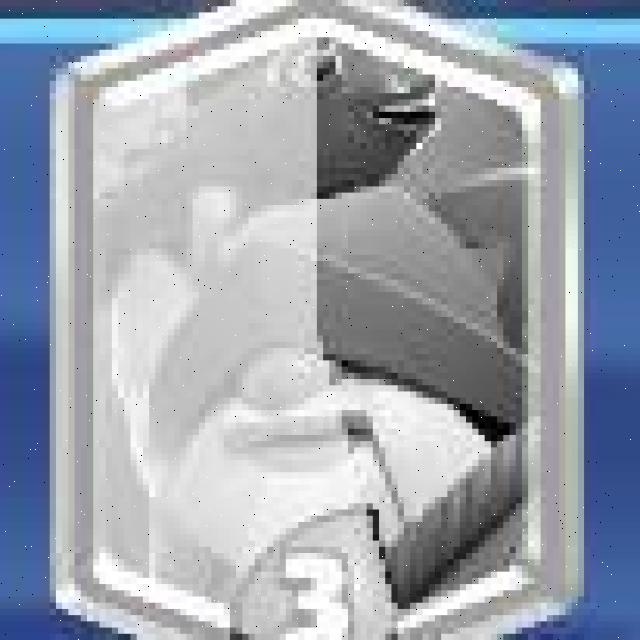Fisherman: (53, 1, 583, 640)
